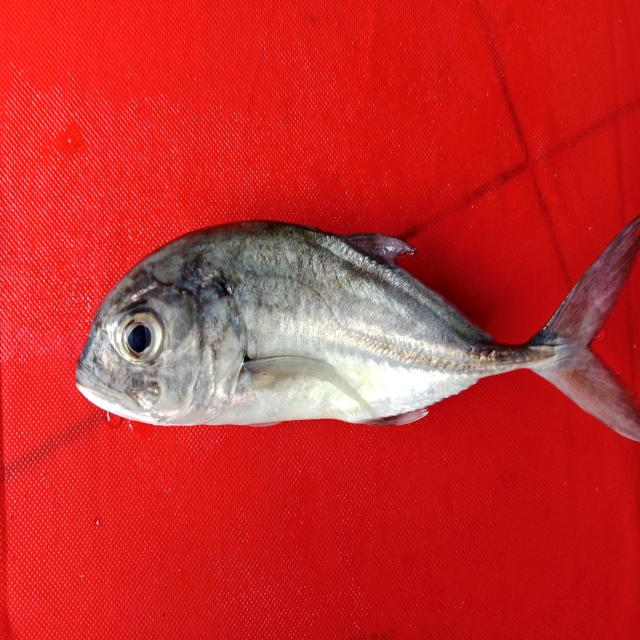ikan: (31, 168, 632, 468)
